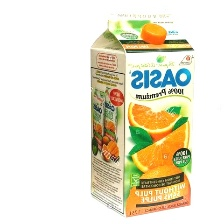carton: (81, 11, 196, 218)
